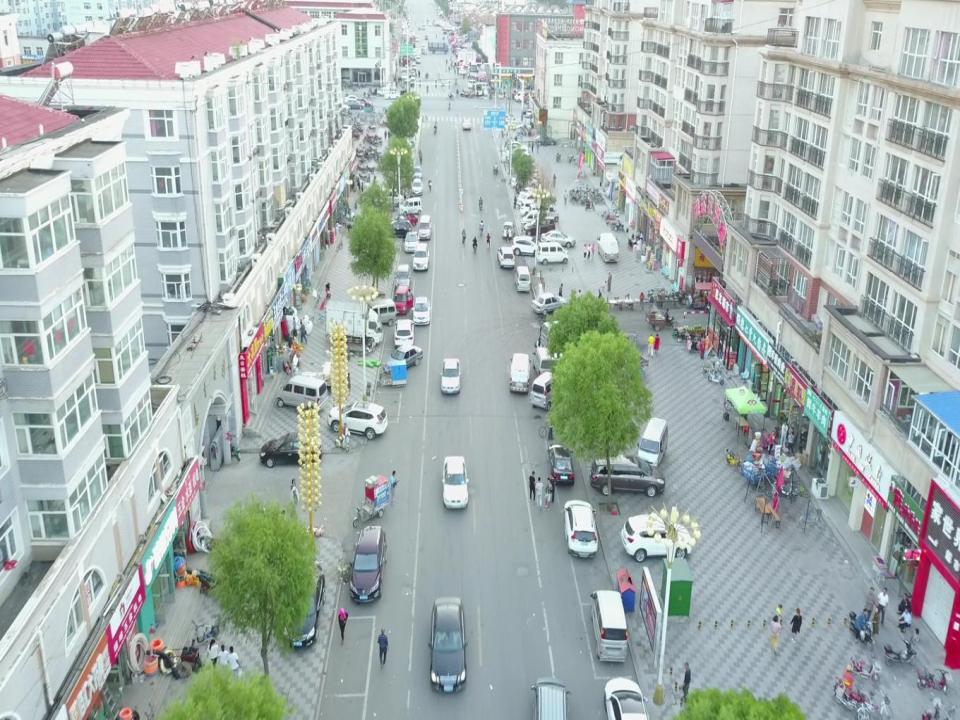car: (430, 598, 468, 690), (590, 452, 666, 493), (622, 514, 689, 559), (289, 559, 320, 649), (350, 526, 386, 602), (260, 430, 324, 469), (330, 404, 389, 442), (603, 677, 647, 720), (565, 502, 598, 557), (528, 678, 568, 720), (440, 455, 468, 509), (547, 444, 575, 485), (532, 374, 564, 408), (383, 348, 425, 370), (510, 352, 531, 393), (440, 358, 461, 395), (542, 226, 576, 247), (597, 236, 619, 266), (531, 292, 567, 310), (512, 235, 538, 257), (395, 320, 415, 346), (414, 296, 430, 326), (526, 216, 556, 232), (389, 216, 412, 236), (497, 247, 516, 269), (394, 289, 410, 314), (394, 265, 412, 287), (520, 198, 548, 212), (513, 172, 537, 188), (404, 231, 420, 254), (522, 210, 546, 224), (506, 138, 530, 152), (506, 146, 531, 159), (518, 166, 540, 180), (521, 184, 542, 197), (520, 192, 542, 204), (534, 134, 556, 145), (347, 96, 364, 109), (412, 180, 423, 197), (508, 119, 524, 129), (345, 93, 359, 103), (356, 96, 370, 106), (462, 116, 471, 131), (384, 91, 400, 99), (502, 112, 515, 121), (414, 166, 422, 178), (525, 107, 533, 118)
truck: (322, 300, 382, 346), (532, 203, 559, 223), (428, 41, 448, 54)
van: (591, 589, 629, 663), (277, 375, 328, 411), (640, 416, 667, 463), (540, 320, 571, 346), (368, 298, 396, 326), (539, 243, 569, 263), (534, 350, 560, 373), (412, 242, 430, 272), (378, 186, 404, 206), (516, 266, 532, 294), (400, 197, 422, 214), (418, 216, 433, 238), (504, 219, 515, 237), (378, 87, 390, 96)
